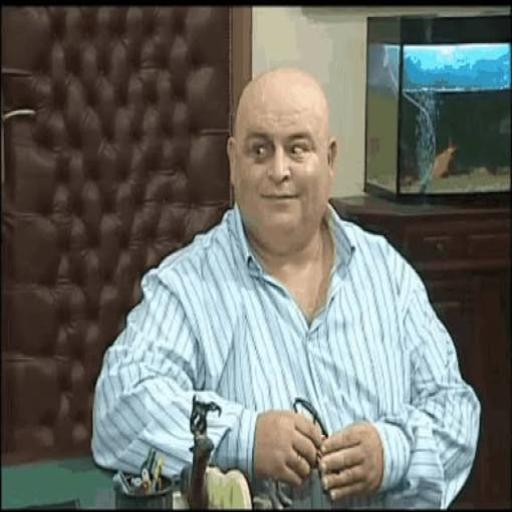sboui: (227, 67, 339, 258)
